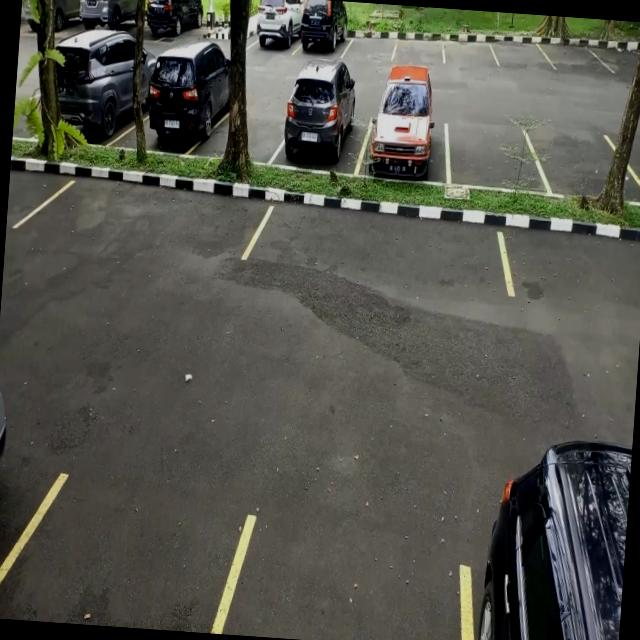car: (271, 74, 369, 176), (362, 83, 455, 185), (54, 37, 136, 149), (144, 55, 230, 156), (248, 0, 302, 60), (297, 0, 349, 60)
free: (256, 185, 517, 298), (32, 170, 262, 268), (537, 125, 639, 206), (443, 111, 542, 190), (544, 34, 603, 75), (392, 22, 446, 64), (345, 18, 394, 62), (492, 31, 547, 69), (442, 28, 494, 67)
